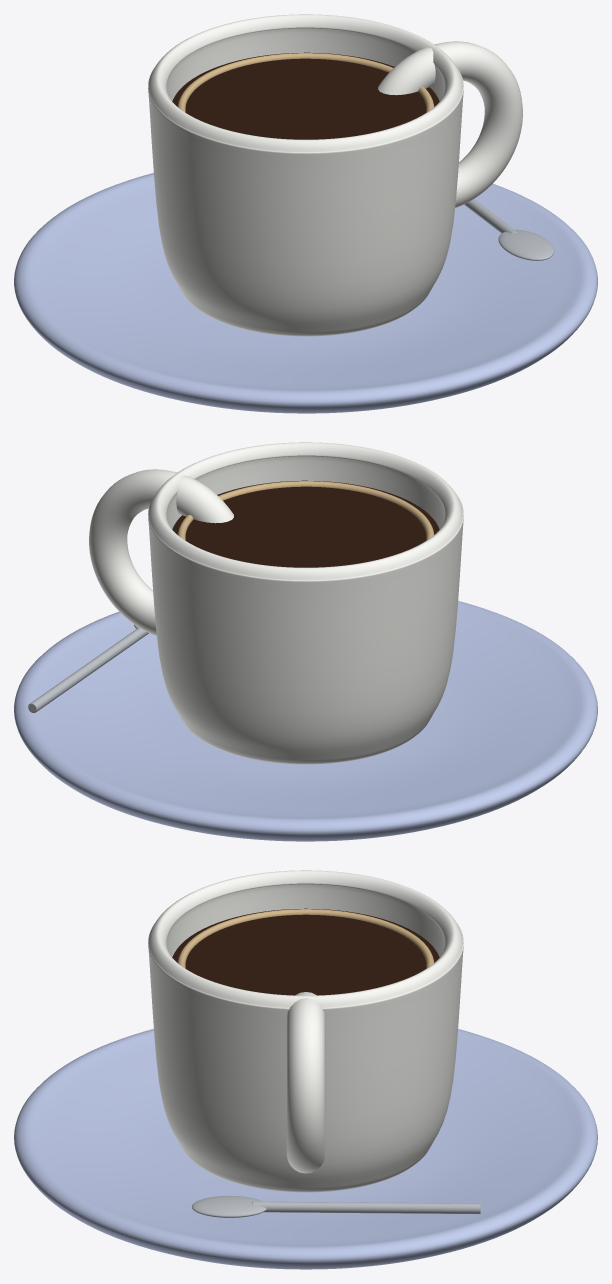
File: espresso-cup.glb
3 renders of one model, top to bottom at view 1: azimuth 30°, elevation 25°; view 2: azimuth 150°, elevation 25°; view 3: azimuth 270°, elevation 25°, orthographic.
Parts seen in each view (by area): view 1: sculpted-surface, hollow-vessel-with-rolled-lip, hollow-porcelain-cup-/-coffee-and-crema-005, hollow-porcelain-cup-/-coffee-and-crema-003, hollow-porcelain-cup-/-coffee-and-crema-006, spoon-007, spoon-008; view 2: sculpted-surface, hollow-vessel-with-rolled-lip, hollow-porcelain-cup-/-coffee-and-crema-005, hollow-porcelain-cup-/-coffee-and-crema-003, hollow-porcelain-cup-/-coffee-and-crema-006, spoon-008; view 3: sculpted-surface, hollow-vessel-with-rolled-lip, hollow-porcelain-cup-/-coffee-and-crema-005, hollow-porcelain-cup-/-coffee-and-crema-003, spoon-008, hollow-porcelain-cup-/-coffee-and-crema-006, spoon-007.
Part boxes in pixels (x1=…): sculpted-surface: x1=14, y1=173, x2=597, y2=413; hollow-vessel-with-rolled-lip: x1=148, y1=14, x2=463, y2=336; hollow-porcelain-cup-/-coffee-and-crema-005: x1=172, y1=52, x2=439, y2=139; hollow-porcelain-cup-/-coffee-and-crema-003: x1=378, y1=41, x2=522, y2=207; hollow-porcelain-cup-/-coffee-and-crema-006: x1=177, y1=53, x2=434, y2=112; spoon-007: x1=498, y1=229, x2=554, y2=260; spoon-008: x1=464, y1=199, x2=517, y2=233; sculpted-surface: x1=14, y1=601, x2=597, y2=841; hollow-vessel-with-rolled-lip: x1=148, y1=442, x2=463, y2=764; hollow-porcelain-cup-/-coffee-and-crema-005: x1=172, y1=480, x2=439, y2=567; hollow-porcelain-cup-/-coffee-and-crema-003: x1=89, y1=469, x2=233, y2=635; hollow-porcelain-cup-/-coffee-and-crema-006: x1=177, y1=481, x2=434, y2=540; spoon-008: x1=28, y1=627, x2=148, y2=712; sculpted-surface: x1=14, y1=1029, x2=597, y2=1269; hollow-vessel-with-rolled-lip: x1=148, y1=870, x2=463, y2=1192; hollow-porcelain-cup-/-coffee-and-crema-005: x1=172, y1=908, x2=439, y2=995; hollow-porcelain-cup-/-coffee-and-crema-003: x1=286, y1=992, x2=325, y2=1173; spoon-008: x1=252, y1=1201, x2=480, y2=1213; hollow-porcelain-cup-/-coffee-and-crema-006: x1=177, y1=909, x2=434, y2=968; spoon-007: x1=192, y1=1195, x2=266, y2=1217.
Size of the model in its own units: 2 by 0.8758 by 2.
